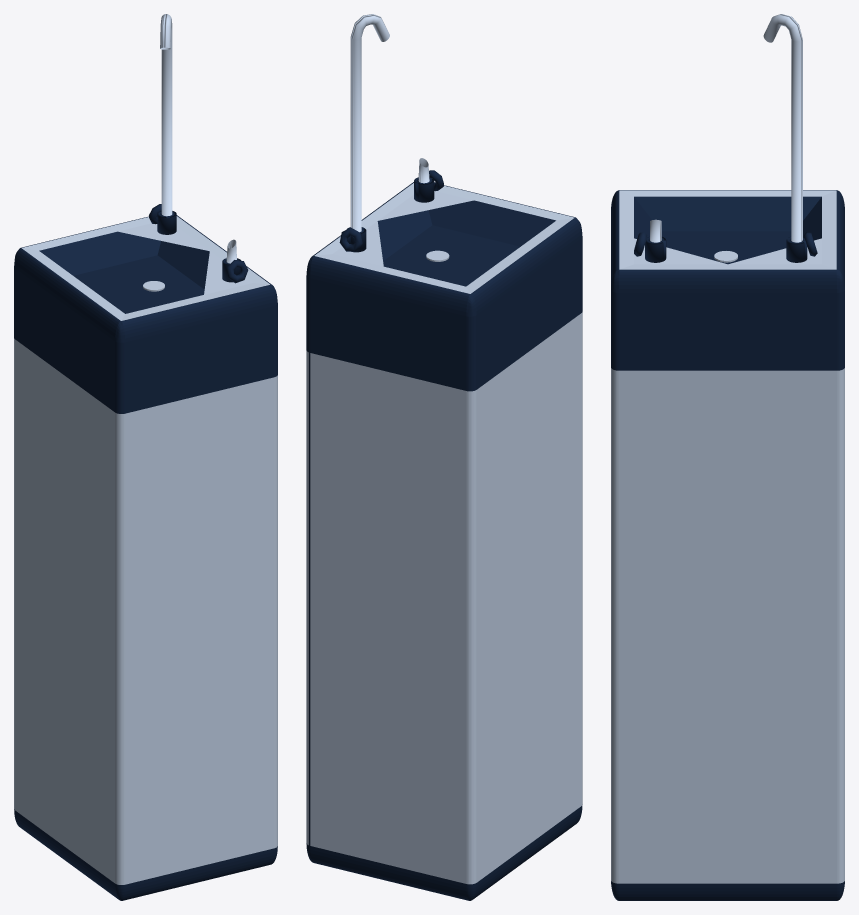
Rendered from bebedouro.fbx.
The picture shows the model from 3 angles, left to right: view 1: azimuth 30°, elevation 25°; view 2: azimuth 150°, elevation 25°; view 3: azimuth 270°, elevation 25°; orthographic projection. The views are drawn at different scales.
Parts seen in each view (by area): view 1: Torus.001; view 2: Torus.001; view 3: Torus.001.
Boxes of the visible parts, x1,y1,x2,y2 form: Torus.001: (14, 14, 277, 900); Torus.001: (306, 14, 582, 900); Torus.001: (611, 14, 844, 900).
Bounding box in the file's own units: 33.4 × 158 × 38.42.
